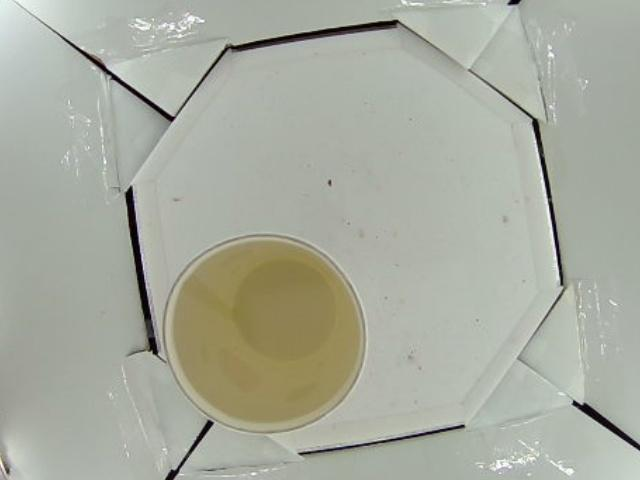Cup: (160, 233, 369, 431)
